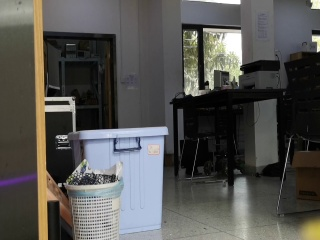room: (9, 5, 320, 232)
